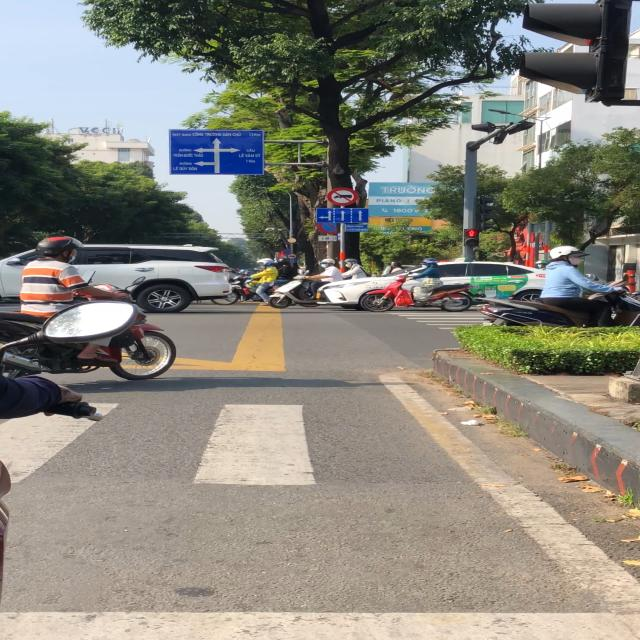Bien bao cam xe so-mi ro-mooc: (326, 185, 359, 207)
